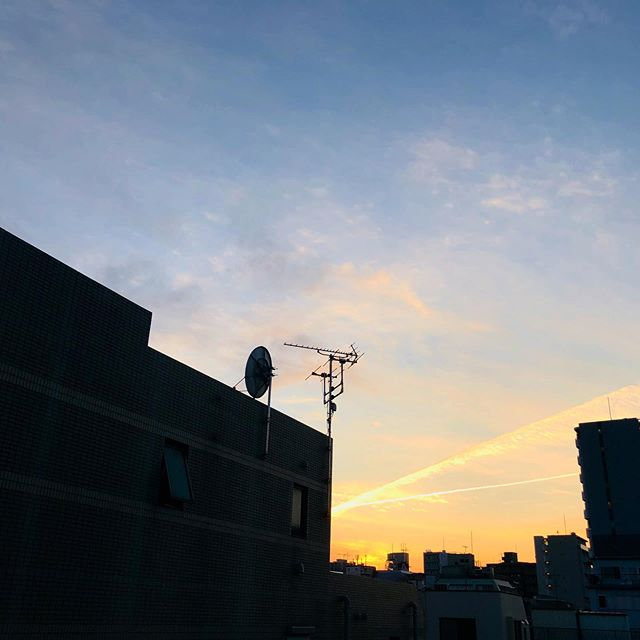building: (1, 239, 373, 640), (573, 417, 640, 554), (527, 525, 590, 615)
sky: (5, 1, 628, 404)
